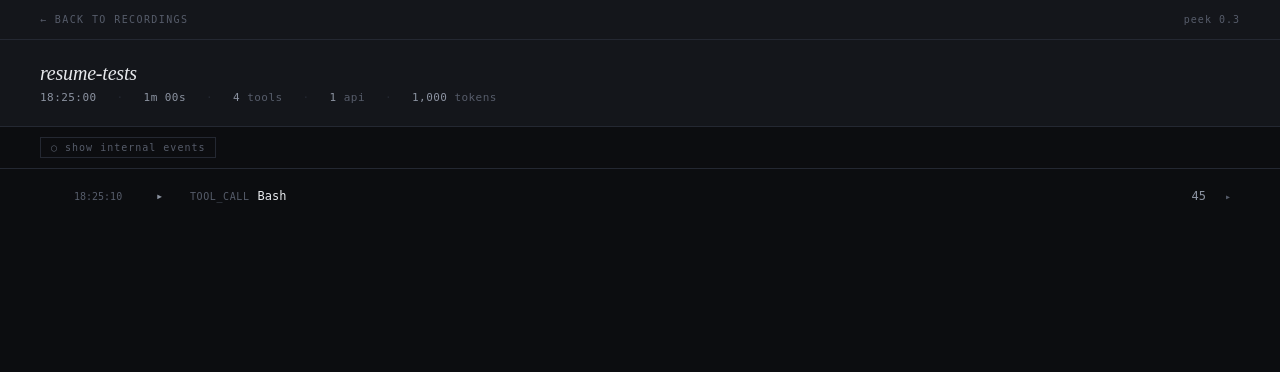
Scenario: RecordingDetailPage — #16 row body is a click target, not just the chevron › clicking the row body (not the chevron) opens the inputs/outputs pane
Expected: the element with test id "recording-detail-header" shows "resume-tests", left=40, top=62, right=137, bottom=84
Simulate a real user click on the row container — not the toggle button.
Click the button with test id "tool-row-span-bash-click": (98, 196) left=40, top=185, right=1240, bottom=207
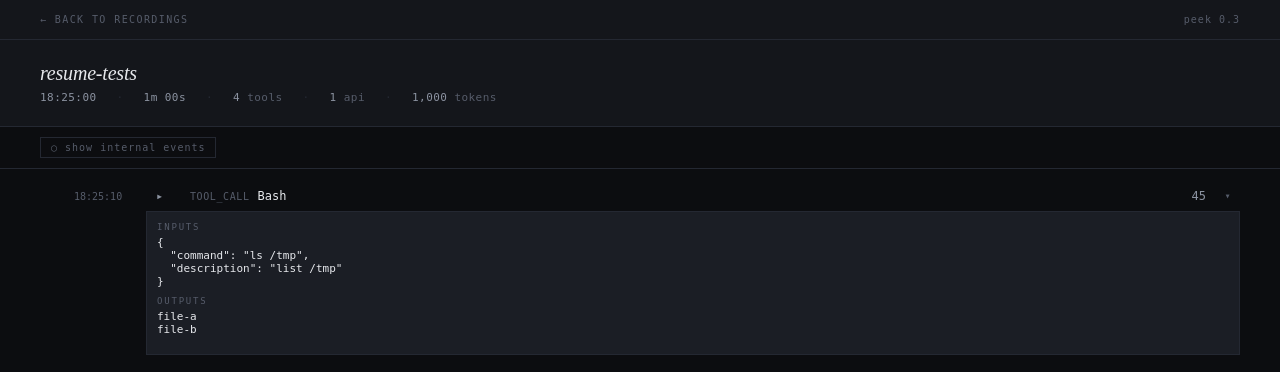
Result: the element with test id "tool-row-body-span-bash-click" shows "ls /tmp" at left=157, top=236, right=342, bottom=288
Result: the element with test id "tool-row-body-span-bash-click" shows "file-a" at left=157, top=310, right=197, bottom=336
